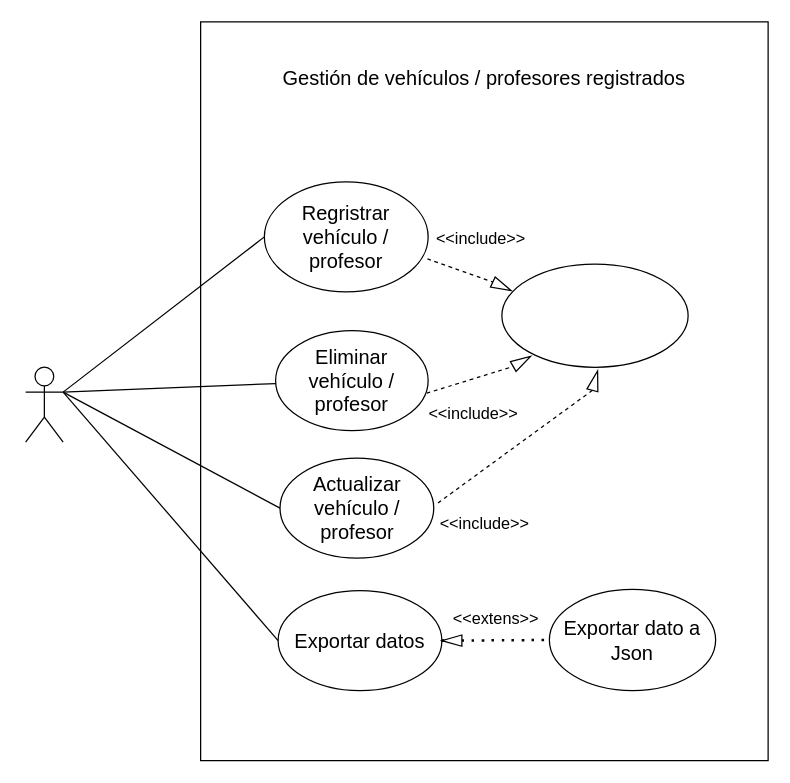
The diagram is 790 pixels wide and 783 high, and some of its shapes have lost their labels. Each missing label, with the centre of its shape:
Actor: the point at 43,404
Buscar vehículo / profesor: the point at 594,315
